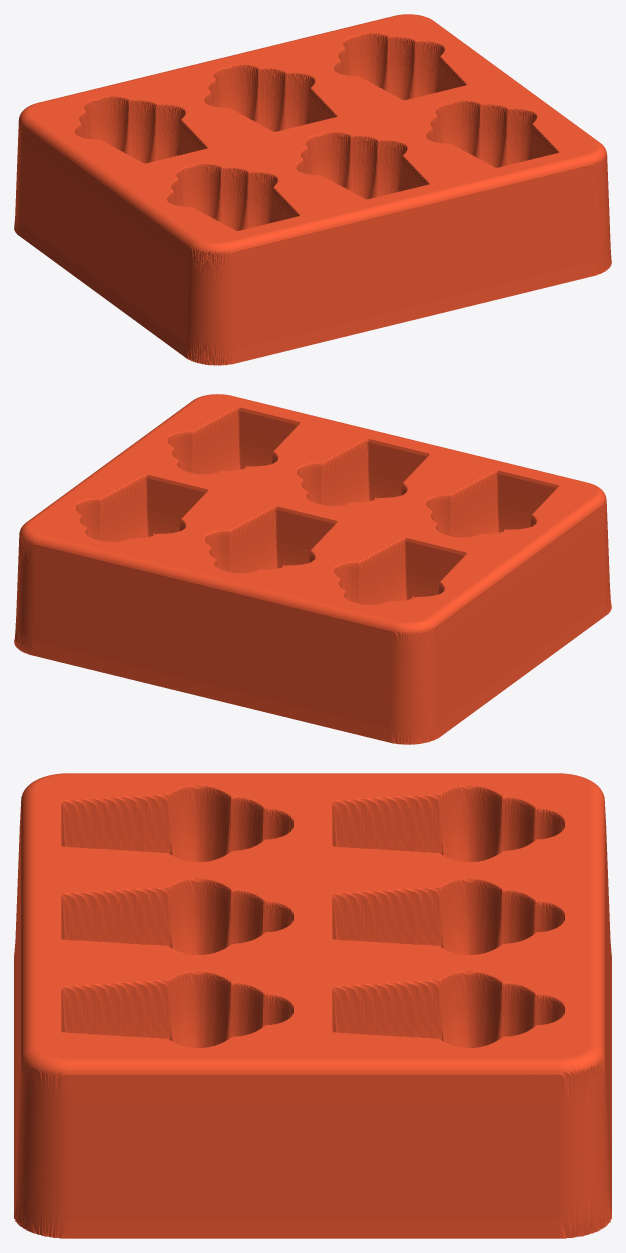
The model's file is mold.glb.
The picture shows the model from 3 angles, top to bottom: view 1: azimuth 30°, elevation 25°; view 2: azimuth 150°, elevation 25°; view 3: azimuth 270°, elevation 25°; orthographic projection. The views are drawn at different scales.
Visible parts, largest first — view 1: geometry_0; view 2: geometry_0; view 3: geometry_0.
Boxes of the visible parts, box(x1,y1,x2,y2) form: geometry_0: box(14, 14, 611, 365); geometry_0: box(14, 394, 611, 744); geometry_0: box(14, 773, 611, 1238).
Size of the model in its own units: 0.1191 by 0.0314 by 0.0996.
